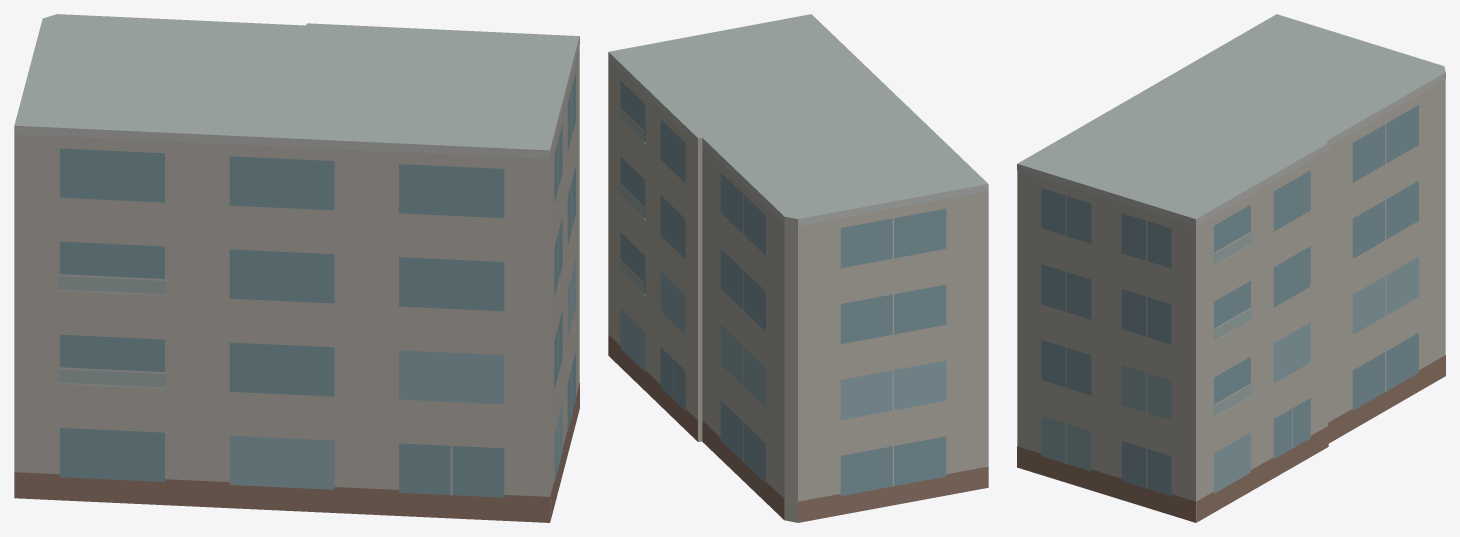
Rendered from survey-upis-32532957.glb.
3 views of the same model, side by side, from view 1: azimuth 30°, elevation 25°; view 2: azimuth 150°, elevation 25°; view 3: azimuth 270°, elevation 25° (orthographic). The views are drawn at different scales.
Parts seen in each view (by area): view 1: survey-upis-32532957.tmp; view 2: survey-upis-32532957.tmp; view 3: survey-upis-32532957.tmp.
Part boxes in pixels (bbox=[...]): survey-upis-32532957.tmp: bbox=[14, 14, 579, 522]; survey-upis-32532957.tmp: bbox=[608, 14, 988, 522]; survey-upis-32532957.tmp: bbox=[1017, 14, 1445, 522].
Bounding box in the file's own units: 15.52 × 10.7 × 13.7.
